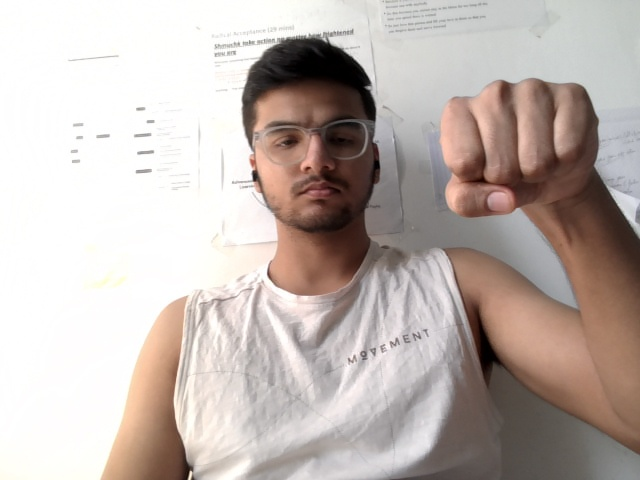yes: (417, 54, 626, 243)
